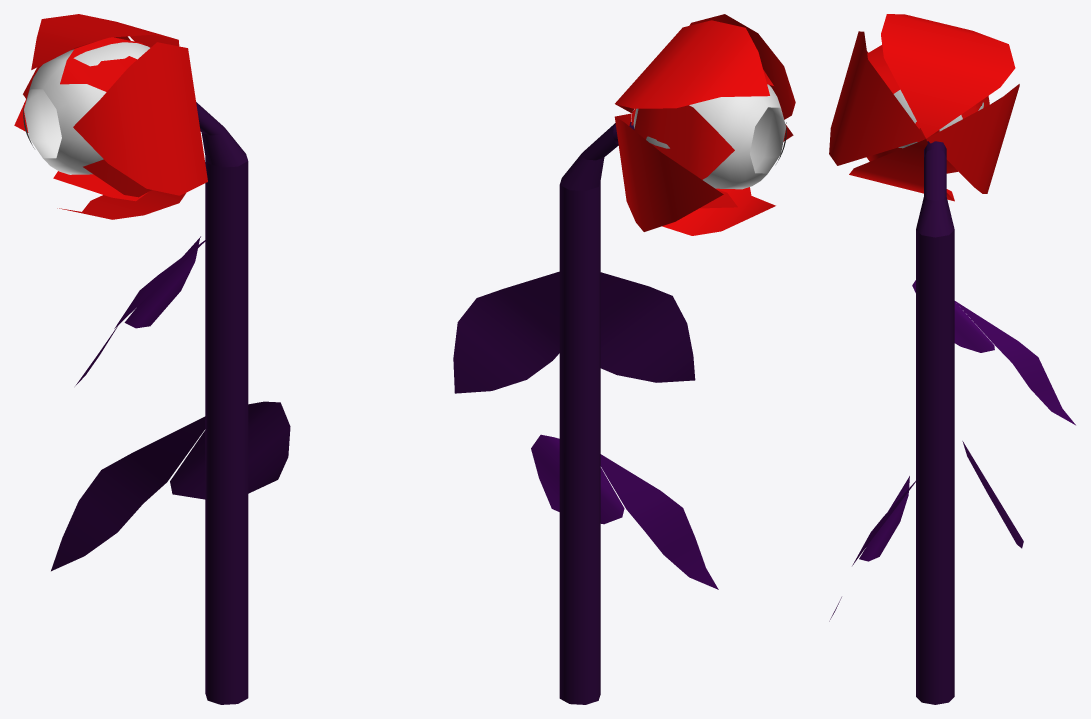
Rendered from eyeball plant.fbx.
The picture shows the model from 3 angles, left to right: view 1: azimuth 30°, elevation 25°; view 2: azimuth 150°, elevation 25°; view 3: azimuth 270°, elevation 25°; orthographic projection. The views are drawn at different scales.
Parts seen in each view (by area): view 1: stem, Berries.004, leaf3, Berries.003, leaf1; view 2: Berries.004, stem, leaf2, leaf4, Berries.003; view 3: Berries.004, stem, leaf1, leaf4, leaf3.
Part boxes in pixels (box(x1,y1,x2,y2)): stem: box(196, 102, 248, 704); Berries.004: box(14, 14, 207, 219); leaf3: box(51, 401, 290, 571); Berries.003: box(24, 42, 149, 174); leaf1: box(75, 236, 205, 385); Berries.004: box(614, 14, 795, 235); stem: box(559, 122, 634, 704); leaf2: box(453, 271, 695, 393); leaf4: box(531, 434, 718, 589); Berries.003: box(633, 84, 786, 189); Berries.004: box(829, 14, 1019, 201); stem: box(916, 141, 954, 704); leaf1: box(912, 280, 1075, 425); leaf4: box(829, 476, 917, 621); leaf3: box(962, 441, 1023, 548).
Size of the model in its own units: 150 by 316 by 116.
